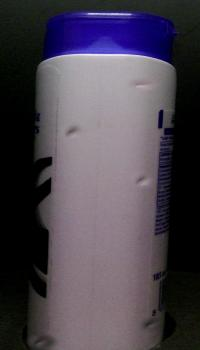dent_unacceptable: (57, 120, 90, 142), (27, 330, 61, 350), (128, 78, 161, 94), (129, 171, 156, 189), (136, 318, 164, 334)
